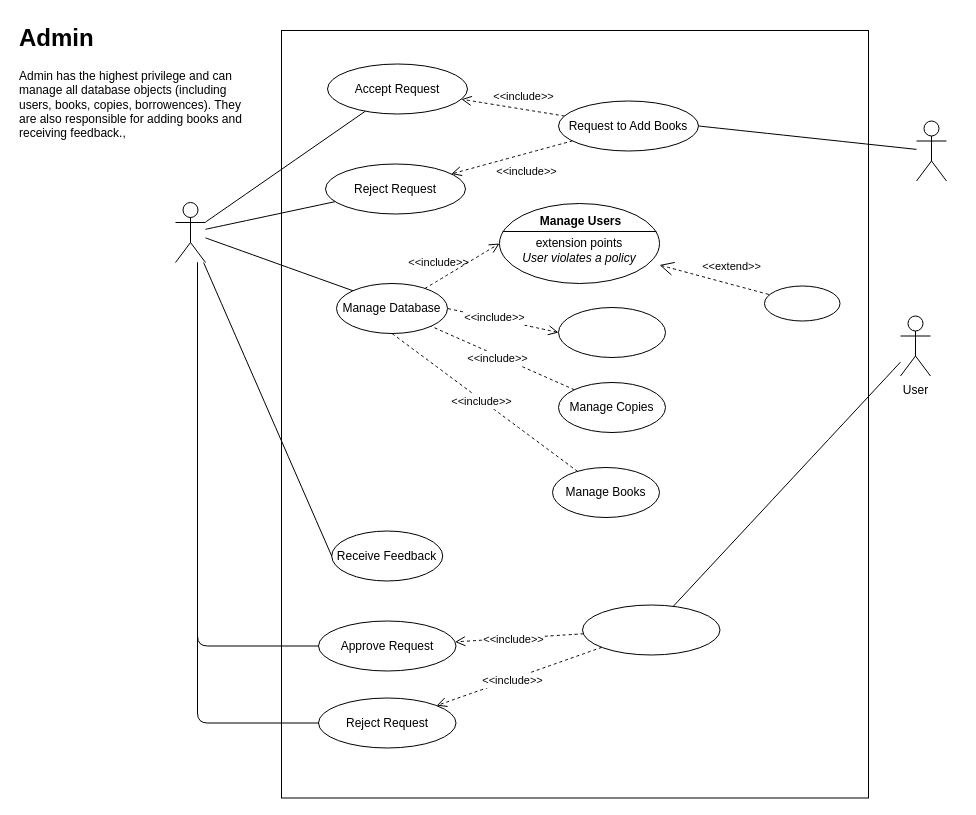
The diagram is 976 pixels wide and 815 high, and some of its shapes have lost their labels. Each missing label, with the centre of its shape:
Admin: [190,232]
Ban User: [802,303]
Manage Borrowance: [612,332]
Moderator: [931,150]
Request to become Moderator: [651,629]
